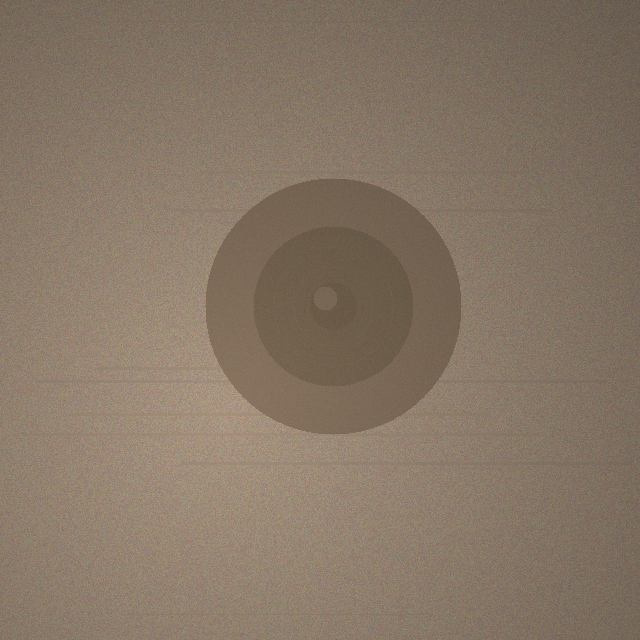good: (205, 178, 461, 434)
